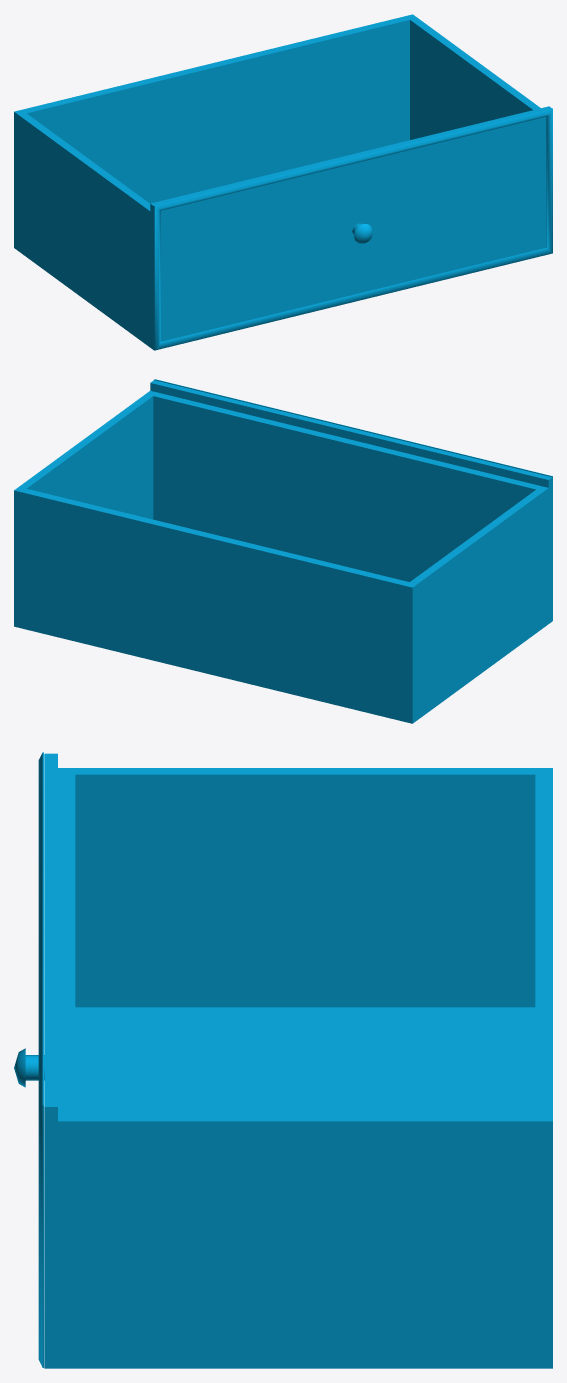
File: Workbench_03_Drawer.fbx
3 renders of one model, top to bottom at view 1: azimuth 30°, elevation 25°; view 2: azimuth 150°, elevation 25°; view 3: azimuth 270°, elevation 25°, orthographic. The views are drawn at different scales.
Visible parts, largest first — view 1: Workbench_03_Drawer; view 2: Workbench_03_Drawer; view 3: Workbench_03_Drawer.
Boxes of the visible parts, bbox=[...] form: Workbench_03_Drawer: bbox=[14, 14, 552, 350]; Workbench_03_Drawer: bbox=[14, 379, 552, 723]; Workbench_03_Drawer: bbox=[14, 752, 552, 1368].
Bounding box in the file's own units: 80.79 × 28.05 × 52.08.
